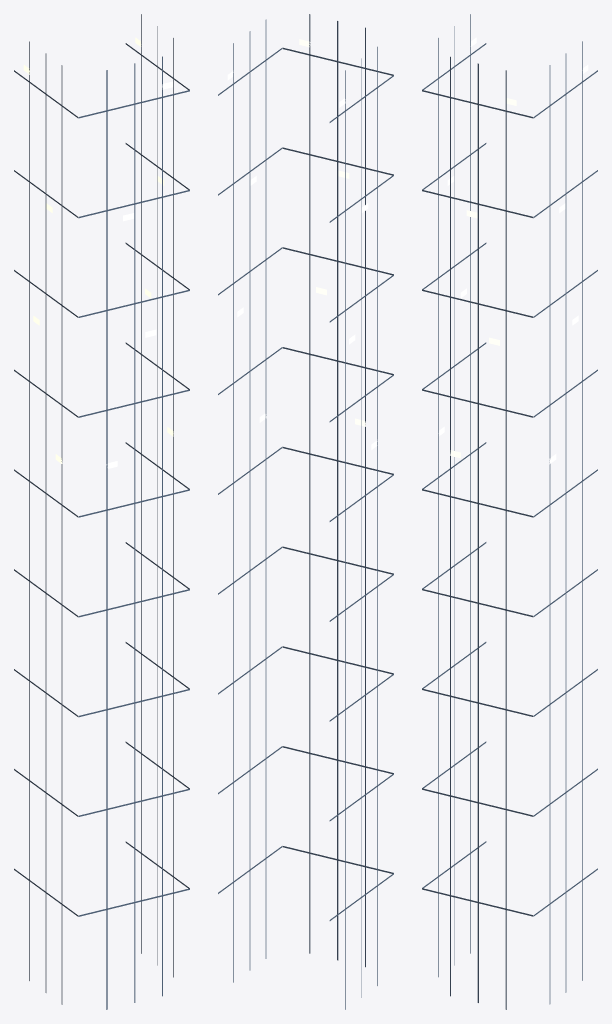
File: SM_MM_T01_Facade.fbx
3 renders of one model, left to right at view 1: azimuth 30°, elevation 25°; view 2: azimuth 150°, elevation 25°; view 3: azimuth 330°, elevation 25°, orthographic.
Parts seen in each view (by area): view 1: SM_MM_T01_Facade; view 2: SM_MM_T01_Facade; view 3: SM_MM_T01_Facade.
Boxes of the visible parts, x1,y1,x2,y2 form: SM_MM_T01_Facade: (14,14,189,1009); SM_MM_T01_Facade: (218,14,393,1009); SM_MM_T01_Facade: (422,14,597,1009).
Size of the model in its own units: 14.05 by 14.03 by 113.
